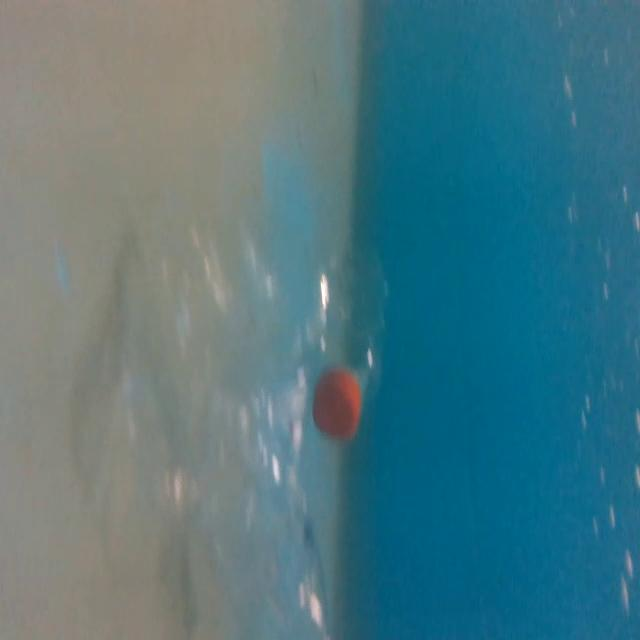plastic bottle: (130, 236, 322, 640), (315, 249, 391, 443)
